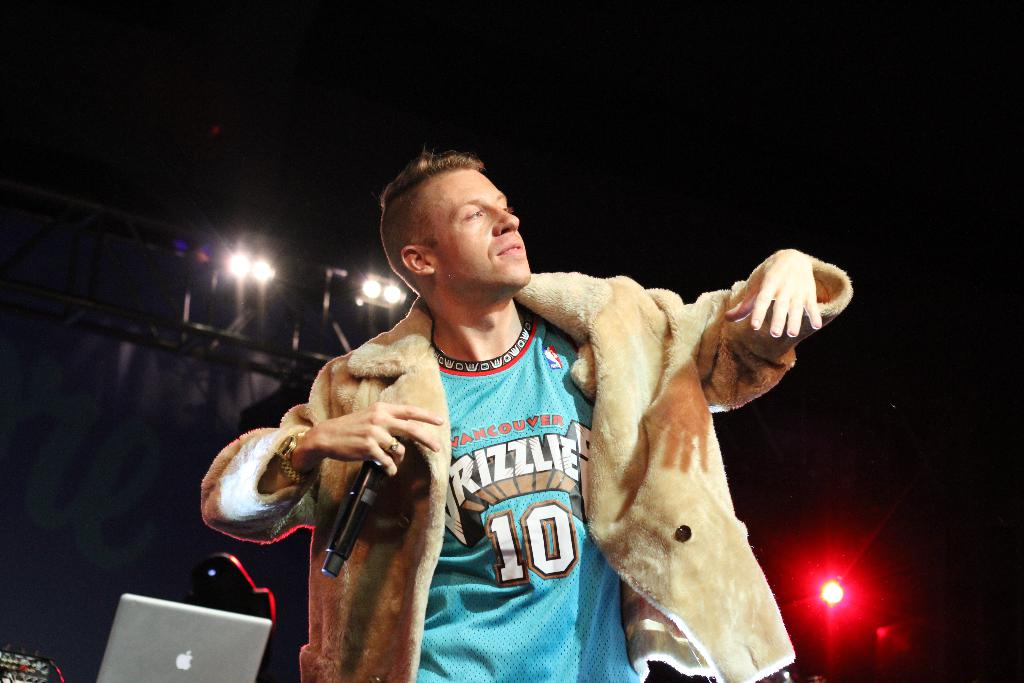Human_hand: (735, 242, 850, 363), (309, 397, 444, 483)
